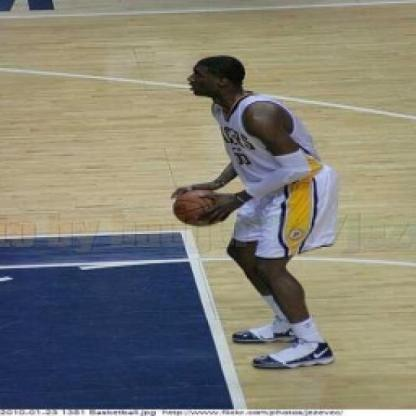basketball: (174, 185, 226, 228)
